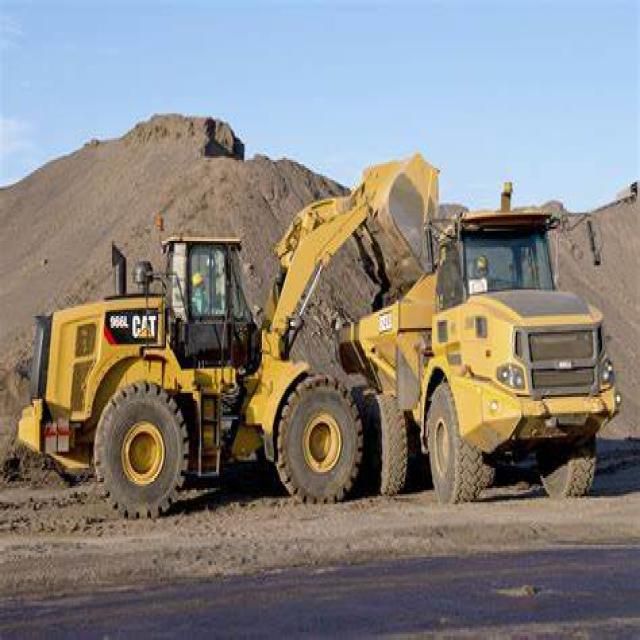buldozerpayloadergrader: (15, 150, 459, 526)
dump_truck: (343, 211, 626, 518)
